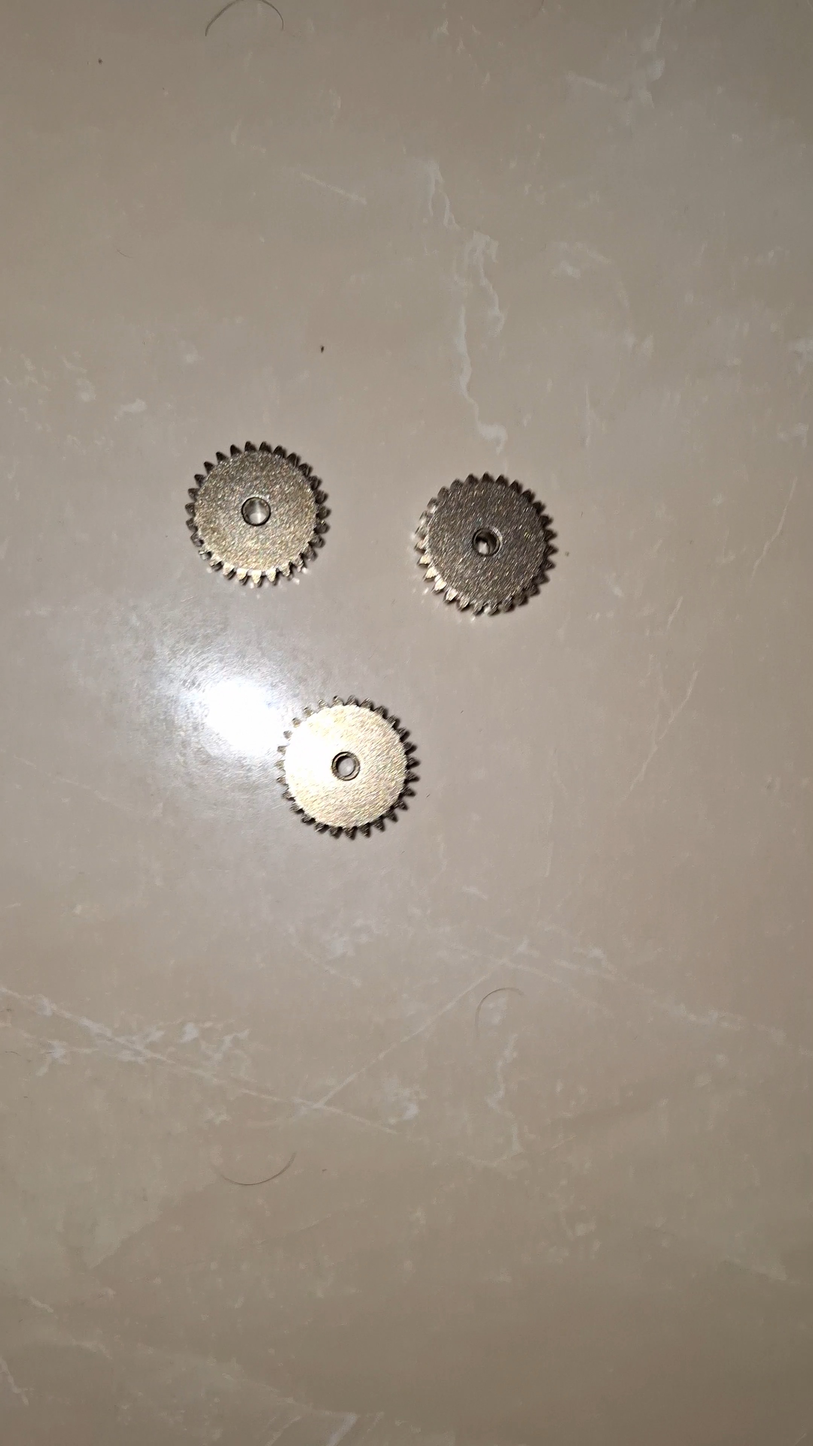spur gear: (187, 442, 327, 586), (416, 474, 556, 613), (279, 697, 417, 837)
